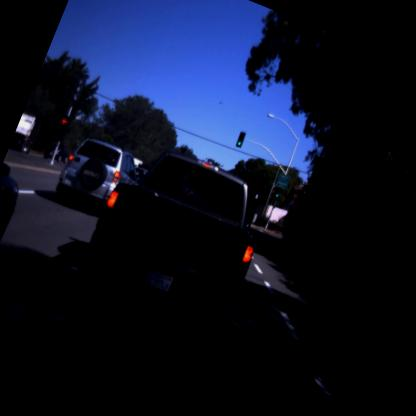trafficlight: (54, 102, 77, 135), (228, 128, 252, 154), (268, 183, 288, 212)
